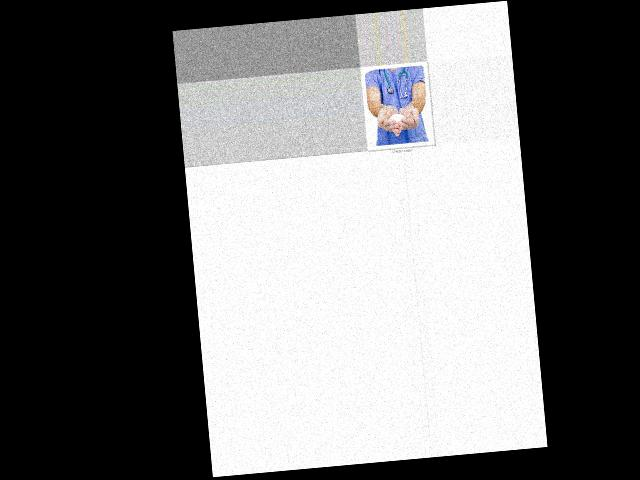egg: (390, 113, 406, 124)
